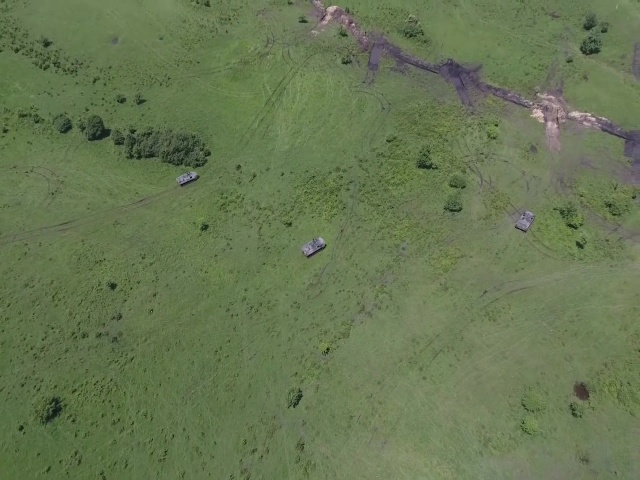vehicle: (514, 208, 536, 233), (301, 236, 327, 257), (176, 169, 200, 187)
